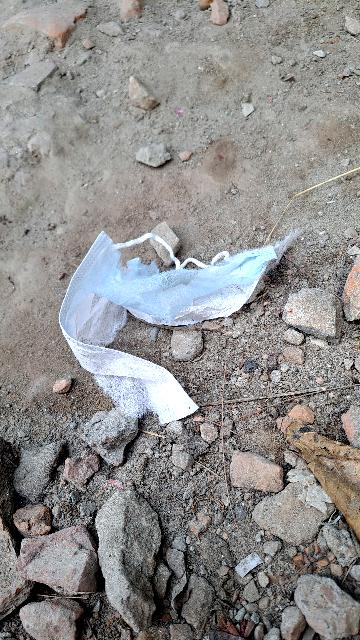mask: (63, 239, 303, 350)
